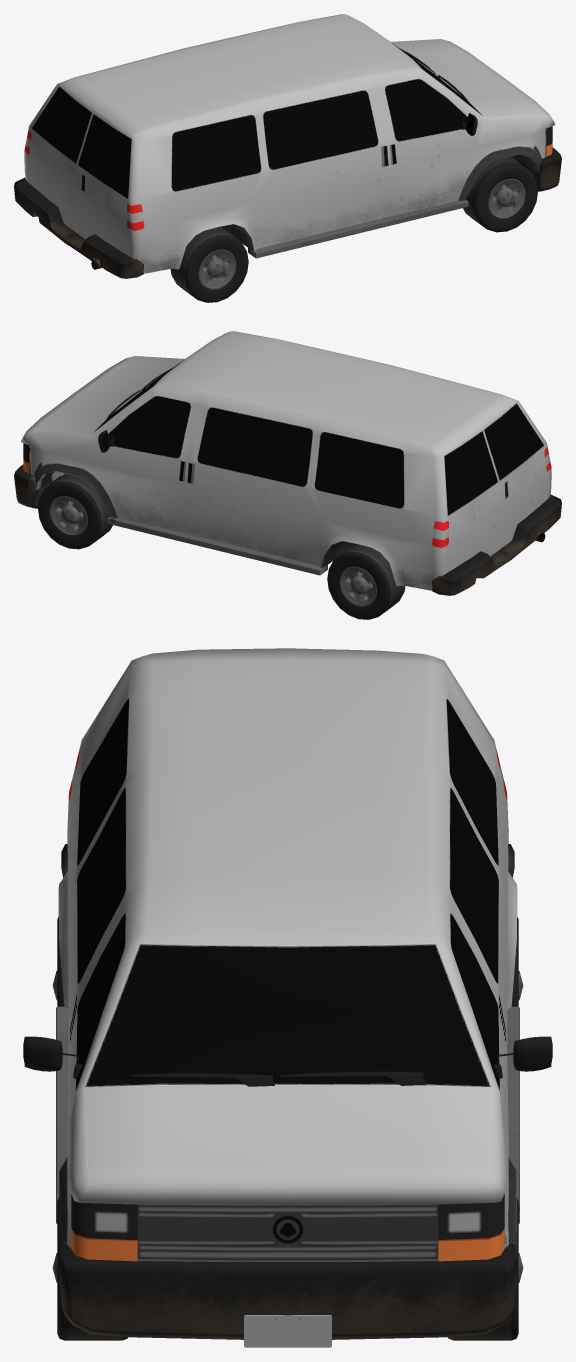
The model's file is 2022-gameart-agustin_trigatti-entregaheroprop.glb.
The picture shows the model from 3 angles, top to bottom: view 1: azimuth 30°, elevation 25°; view 2: azimuth 150°, elevation 25°; view 3: azimuth 270°, elevation 25°; orthographic projection. The views are drawn at different scales.
Visible parts, largest first — view 1: camio_high1, rueda_low, guardabarrotrasero_low, barra_low, guardabarro_low; view 2: camio_high1, rueda_low, guardabarrotrasero_low, barra_low, guardabarro_low; view 3: camio_high1, guardabarro_low, parrilla_low, light_low, barra_low, rueda_low, patente_low, espejos_low, limpiaparabrisas_low.
Part boxes in pixels (left/top/right/bottom): camio_high1: left=24, top=14, right=554, bottom=273; rueda_low: left=170, top=156, right=537, bottom=302; guardabarrotrasero_low: left=14, top=177, right=143, bottom=278; barra_low: left=248, top=199, right=468, bottom=258; guardabarro_low: left=515, top=145, right=561, bottom=191; camio_high1: left=21, top=331, right=551, bottom=590; rueda_low: left=38, top=473, right=405, bottom=619; guardabarrotrasero_low: left=432, top=494, right=561, bottom=595; barra_low: left=107, top=516, right=327, bottom=575; guardabarro_low: left=14, top=462, right=60, bottom=508; camio_high1: left=58, top=648, right=517, bottom=1248; guardabarro_low: left=57, top=1242, right=518, bottom=1339; parrilla_low: left=137, top=1204, right=438, bottom=1261; light_low: left=71, top=1194, right=504, bottom=1261; barra_low: left=56, top=1006, right=519, bottom=1223; rueda_low: left=52, top=917, right=523, bottom=1340; patente_low: left=244, top=1315, right=331, bottom=1347; espejos_low: left=23, top=1036, right=552, bottom=1078; limpiaparabrisas_low: left=130, top=1071, right=426, bottom=1086.
Size of the model in its own units: 0.047 by 0.0174 by 0.0241.
Materials: 1 (1 with a texture image).
